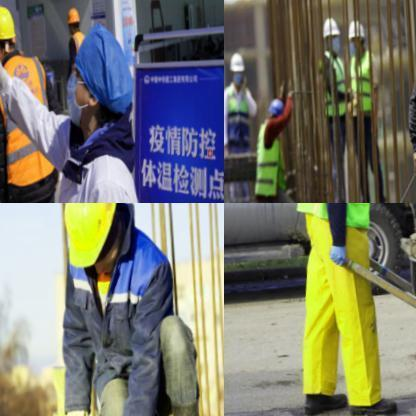vest: (59, 227, 179, 397), (0, 56, 58, 189), (287, 203, 374, 239), (250, 117, 284, 202), (224, 77, 254, 160), (314, 50, 347, 121), (346, 50, 373, 115), (68, 32, 86, 65)
